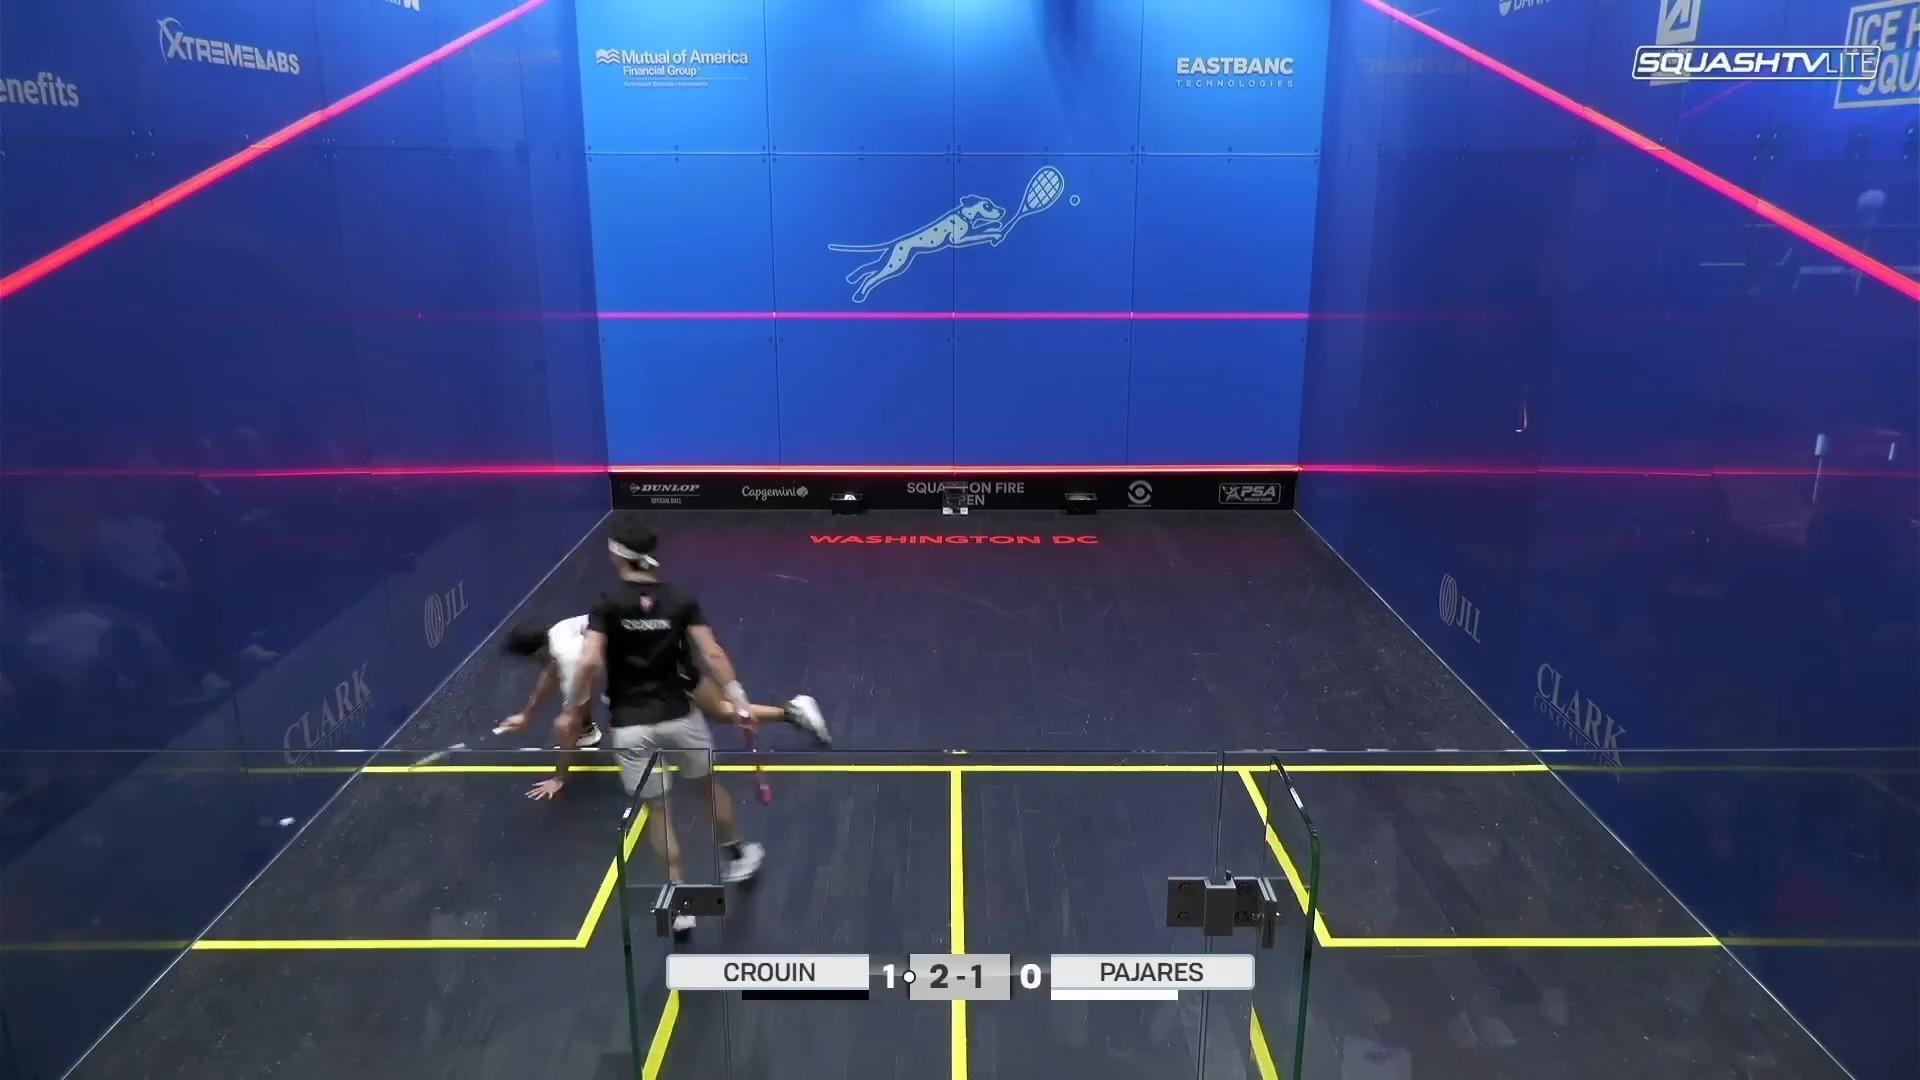Squash-Ball: (253, 795, 316, 852)
